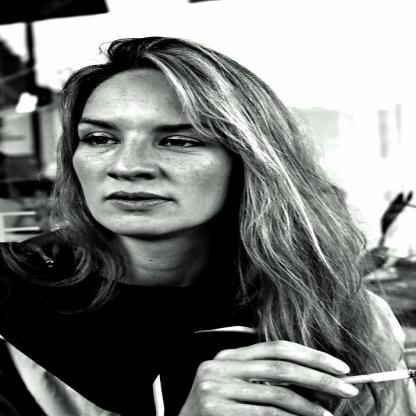smoking: (327, 369, 415, 386)
